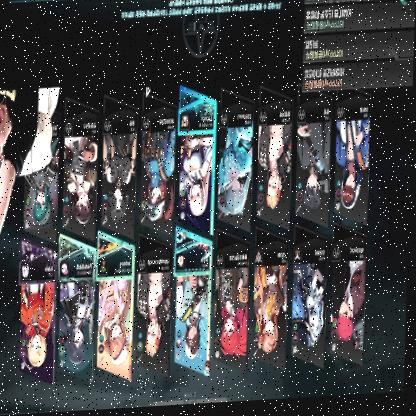streamer: (0, 87, 39, 250)
